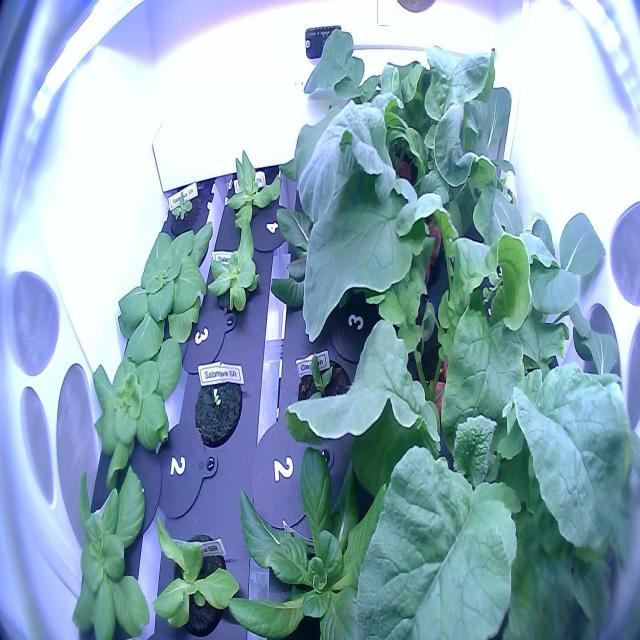germination: (188, 354, 246, 456)
young: (223, 426, 432, 640), (87, 322, 188, 497), (112, 216, 220, 369), (66, 459, 157, 639), (148, 503, 247, 638), (202, 213, 269, 325), (289, 340, 359, 445), (221, 143, 285, 238), (164, 182, 206, 244)
